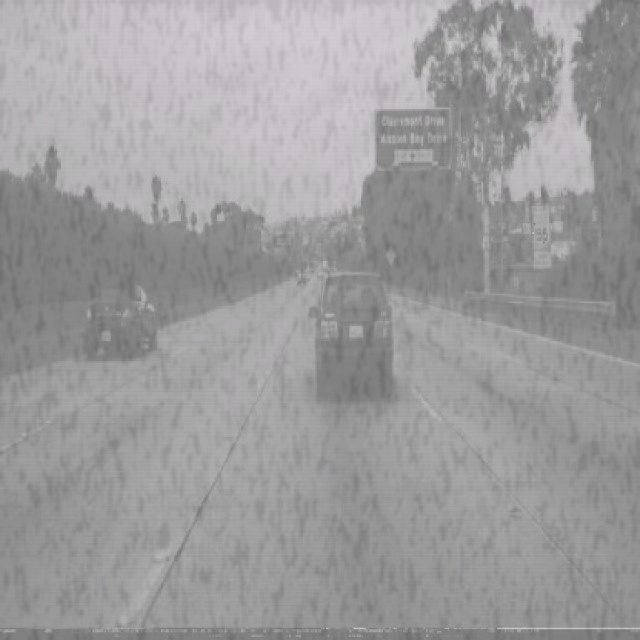truckSpeedLimit55: (532, 202, 552, 251)
